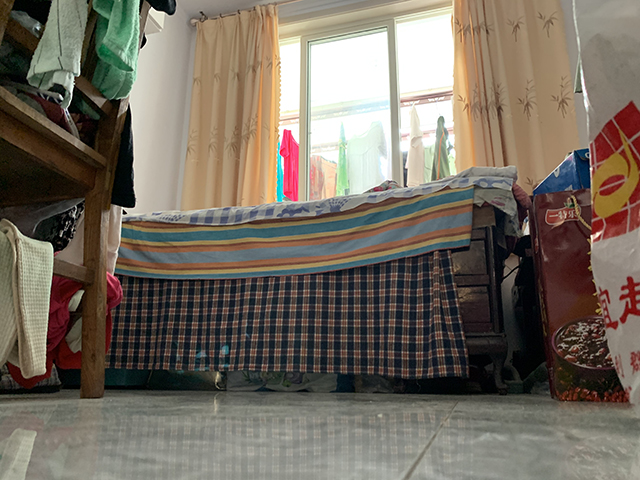bed: (105, 176, 511, 397)
stool: (1, 1, 152, 400)
